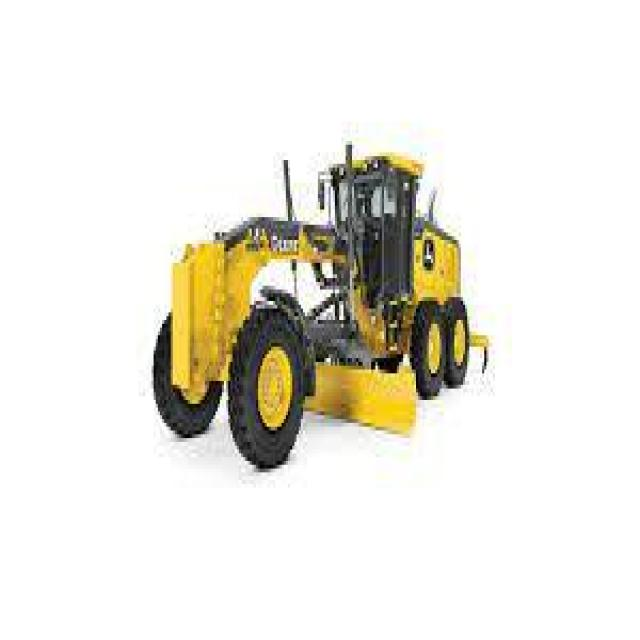buldozerpayloadergrader: (136, 126, 504, 476)
